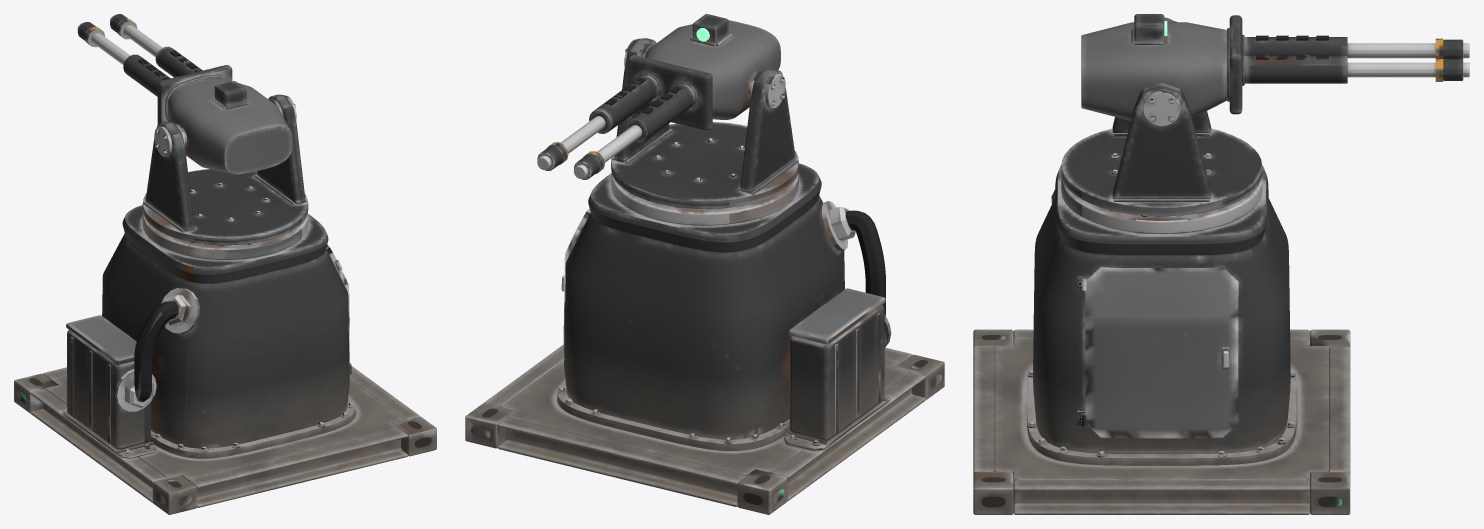
Rendered from SM_TurretGun.glb.
The picture shows the model from 3 angles, left to right: view 1: azimuth 30°, elevation 25°; view 2: azimuth 150°, elevation 25°; view 3: azimuth 270°, elevation 25°; orthographic projection. The views are drawn at different scales.
Parts seen in each view (by area): view 1: SM_TurretGun, SM_TurretGun_Head, SM_TurretGun_Cradle, SM_TurretGun_Barrels; view 2: SM_TurretGun, SM_TurretGun_Head, SM_TurretGun_Cradle, SM_TurretGun_Barrels; view 3: SM_TurretGun, SM_TurretGun_Cradle, SM_TurretGun_Head, SM_TurretGun_Barrels.
Part boxes in pixels (x1=…): SM_TurretGun: x1=14, y1=205, x2=436, y2=514; SM_TurretGun_Head: x1=142, y1=94, x2=308, y2=245; SM_TurretGun_Cradle: x1=123, y1=46, x2=292, y2=174; SM_TurretGun_Barrels: x1=77, y1=14, x2=162, y2=64; SM_TurretGun: x1=465, y1=163, x2=944, y2=514; SM_TurretGun_Head: x1=611, y1=38, x2=798, y2=208; SM_TurretGun_Cradle: x1=589, y1=14, x2=780, y2=142; SM_TurretGun_Barrels: x1=537, y1=116, x2=642, y2=179; SM_TurretGun: x1=973, y1=165, x2=1350, y2=514; SM_TurretGun_Cradle: x1=1081, y1=14, x2=1347, y2=120; SM_TurretGun_Head: x1=1061, y1=17, x2=1262, y2=216; SM_TurretGun_Barrels: x1=1347, y1=38, x2=1469, y2=81.
Size of the model in its own units: 1.51 by 1.83 by 1.98.
Materials: 7 (6 with a texture image).
